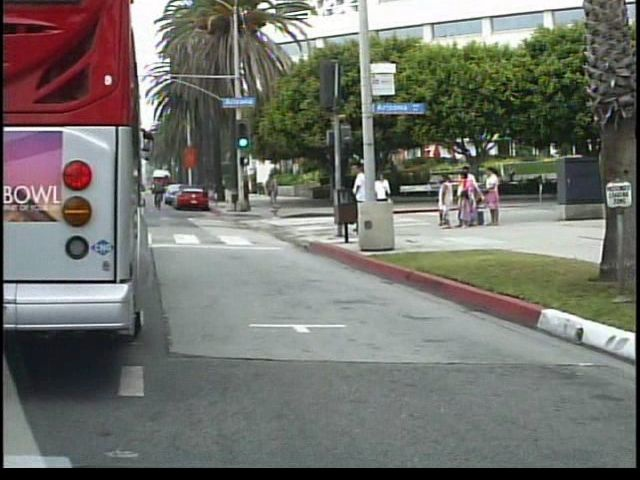person: (352, 161, 376, 239), (375, 168, 398, 230), (267, 169, 287, 211)
